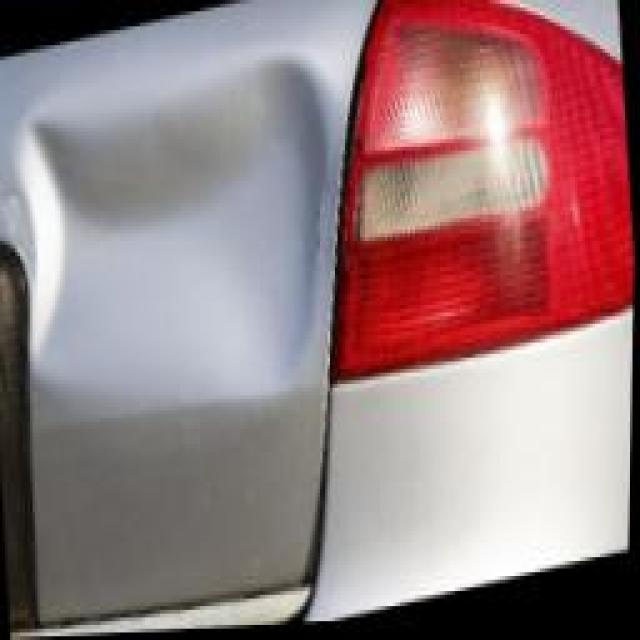Dickey: (0, 38, 338, 444)
